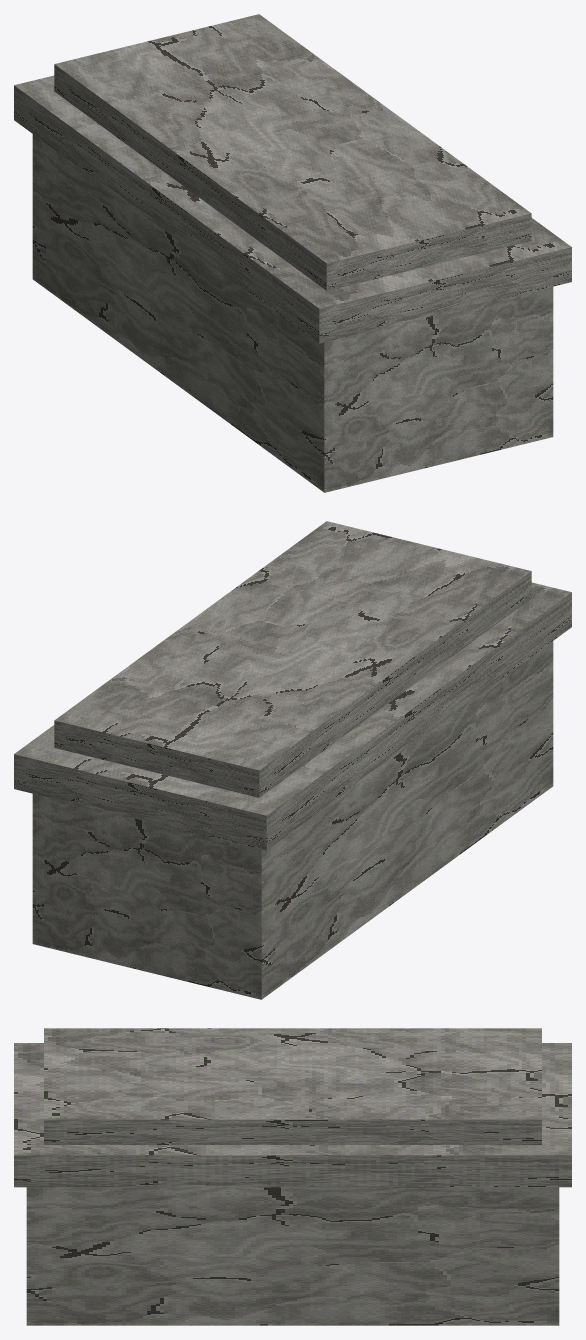
File: catacumba_sarcofago.glb
3 renders of one model, top to bottom at view 1: azimuth 30°, elevation 25°; view 2: azimuth 150°, elevation 25°; view 3: azimuth 270°, elevation 25°, orthographic. The views are drawn at different scales.
Visible parts, largest first — view 1: catacumba_sarcofago; view 2: catacumba_sarcofago; view 3: catacumba_sarcofago.
Part boxes in pixels (bbox=[...]): catacumba_sarcofago: bbox=[14, 14, 571, 492]; catacumba_sarcofago: bbox=[14, 521, 571, 999]; catacumba_sarcofago: bbox=[14, 1028, 571, 1325].
Bounding box in the file's own units: 1.06 × 0.88 × 2.22.
Materials: 1 (1 with a texture image).
